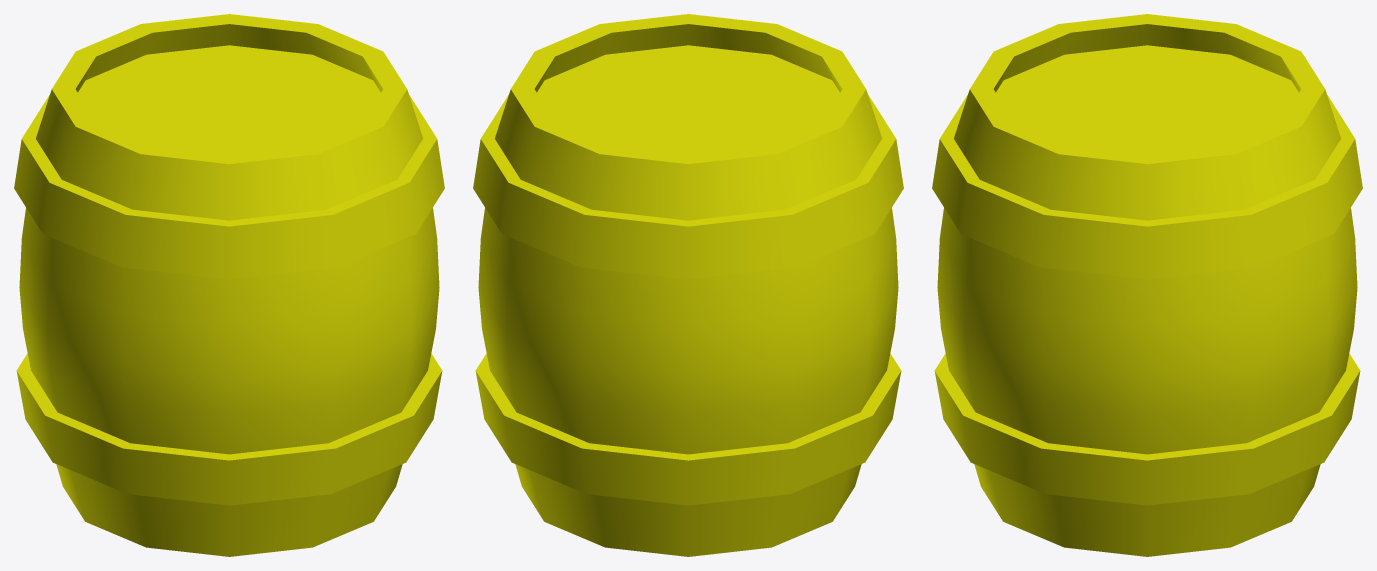
The model's file is m_barrel.fbx.
The picture shows the model from 3 angles, left to right: view 1: azimuth 30°, elevation 25°; view 2: azimuth 150°, elevation 25°; view 3: azimuth 270°, elevation 25°; orthographic projection.
Visible parts, largest first — view 1: m_barrel; view 2: m_barrel; view 3: m_barrel.
Boxes of the visible parts, x1=… form: m_barrel: x1=14, y1=14, x2=444, y2=556; m_barrel: x1=473, y1=14, x2=903, y2=556; m_barrel: x1=932, y1=14, x2=1362, y2=556.
Size of the model in its own units: 1.14 by 1.16 by 1.14.
